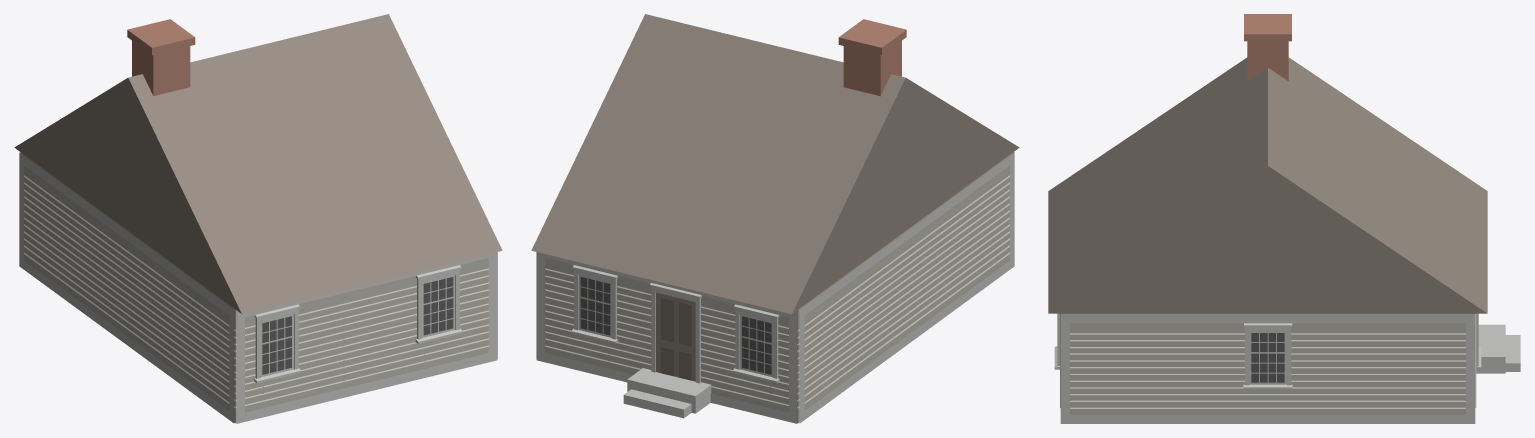
File: recon_1835_south_d4_006__inferred_1835.glb
3 views of the same model, side by side, from view 1: azimuth 30°, elevation 25°; view 2: azimuth 150°, elevation 25°; view 3: azimuth 270°, elevation 25° (orthographic). The views are drawn at different scales.
Visible parts, largest first — view 1: recon_1835_south_d4_006__inferred_1835; view 2: recon_1835_south_d4_006__inferred_1835; view 3: recon_1835_south_d4_006__inferred_1835.
Part boxes in pixels (bbox=[...]): recon_1835_south_d4_006__inferred_1835: bbox=[14, 14, 502, 423]; recon_1835_south_d4_006__inferred_1835: bbox=[531, 14, 1019, 423]; recon_1835_south_d4_006__inferred_1835: bbox=[1048, 14, 1520, 423].
Size of the model in its own units: 6.06 by 6.57 by 9.61.
